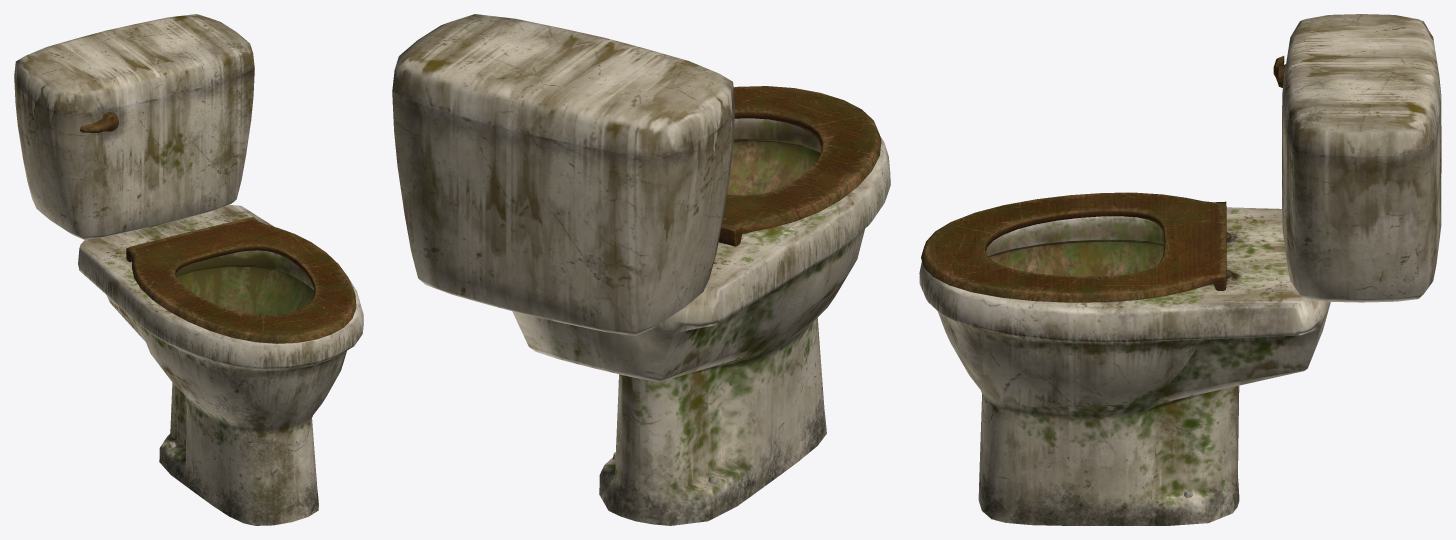
File: SM_Toilet.fbx
3 renders of one model, left to right at view 1: azimuth 30°, elevation 25°; view 2: azimuth 150°, elevation 25°; view 3: azimuth 270°, elevation 25°, orthographic. The views are drawn at different scales.
Parts seen in each view (by area): view 1: SM_Toilet, SM_Toilet.001, SM_Toilet.002; view 2: SM_Toilet, SM_Toilet.001; view 3: SM_Toilet, SM_Toilet.001.
Part boxes in pixels (x1,y1,x2,y2): SM_Toilet: (14, 14, 363, 525); SM_Toilet.001: (126, 217, 356, 343); SM_Toilet.002: (80, 112, 118, 132); SM_Toilet: (392, 14, 890, 525); SM_Toilet.001: (718, 86, 881, 246); SM_Toilet: (919, 14, 1441, 525); SM_Toilet.001: (921, 192, 1226, 302).
Size of the model in its own units: 0.4967 by 0.8129 by 0.8866.
